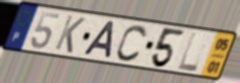5: (149, 26, 188, 69), (29, 10, 61, 50)
A: (80, 20, 117, 61)
C: (115, 23, 150, 64)
K: (52, 13, 87, 55)
L: (176, 31, 200, 73)
